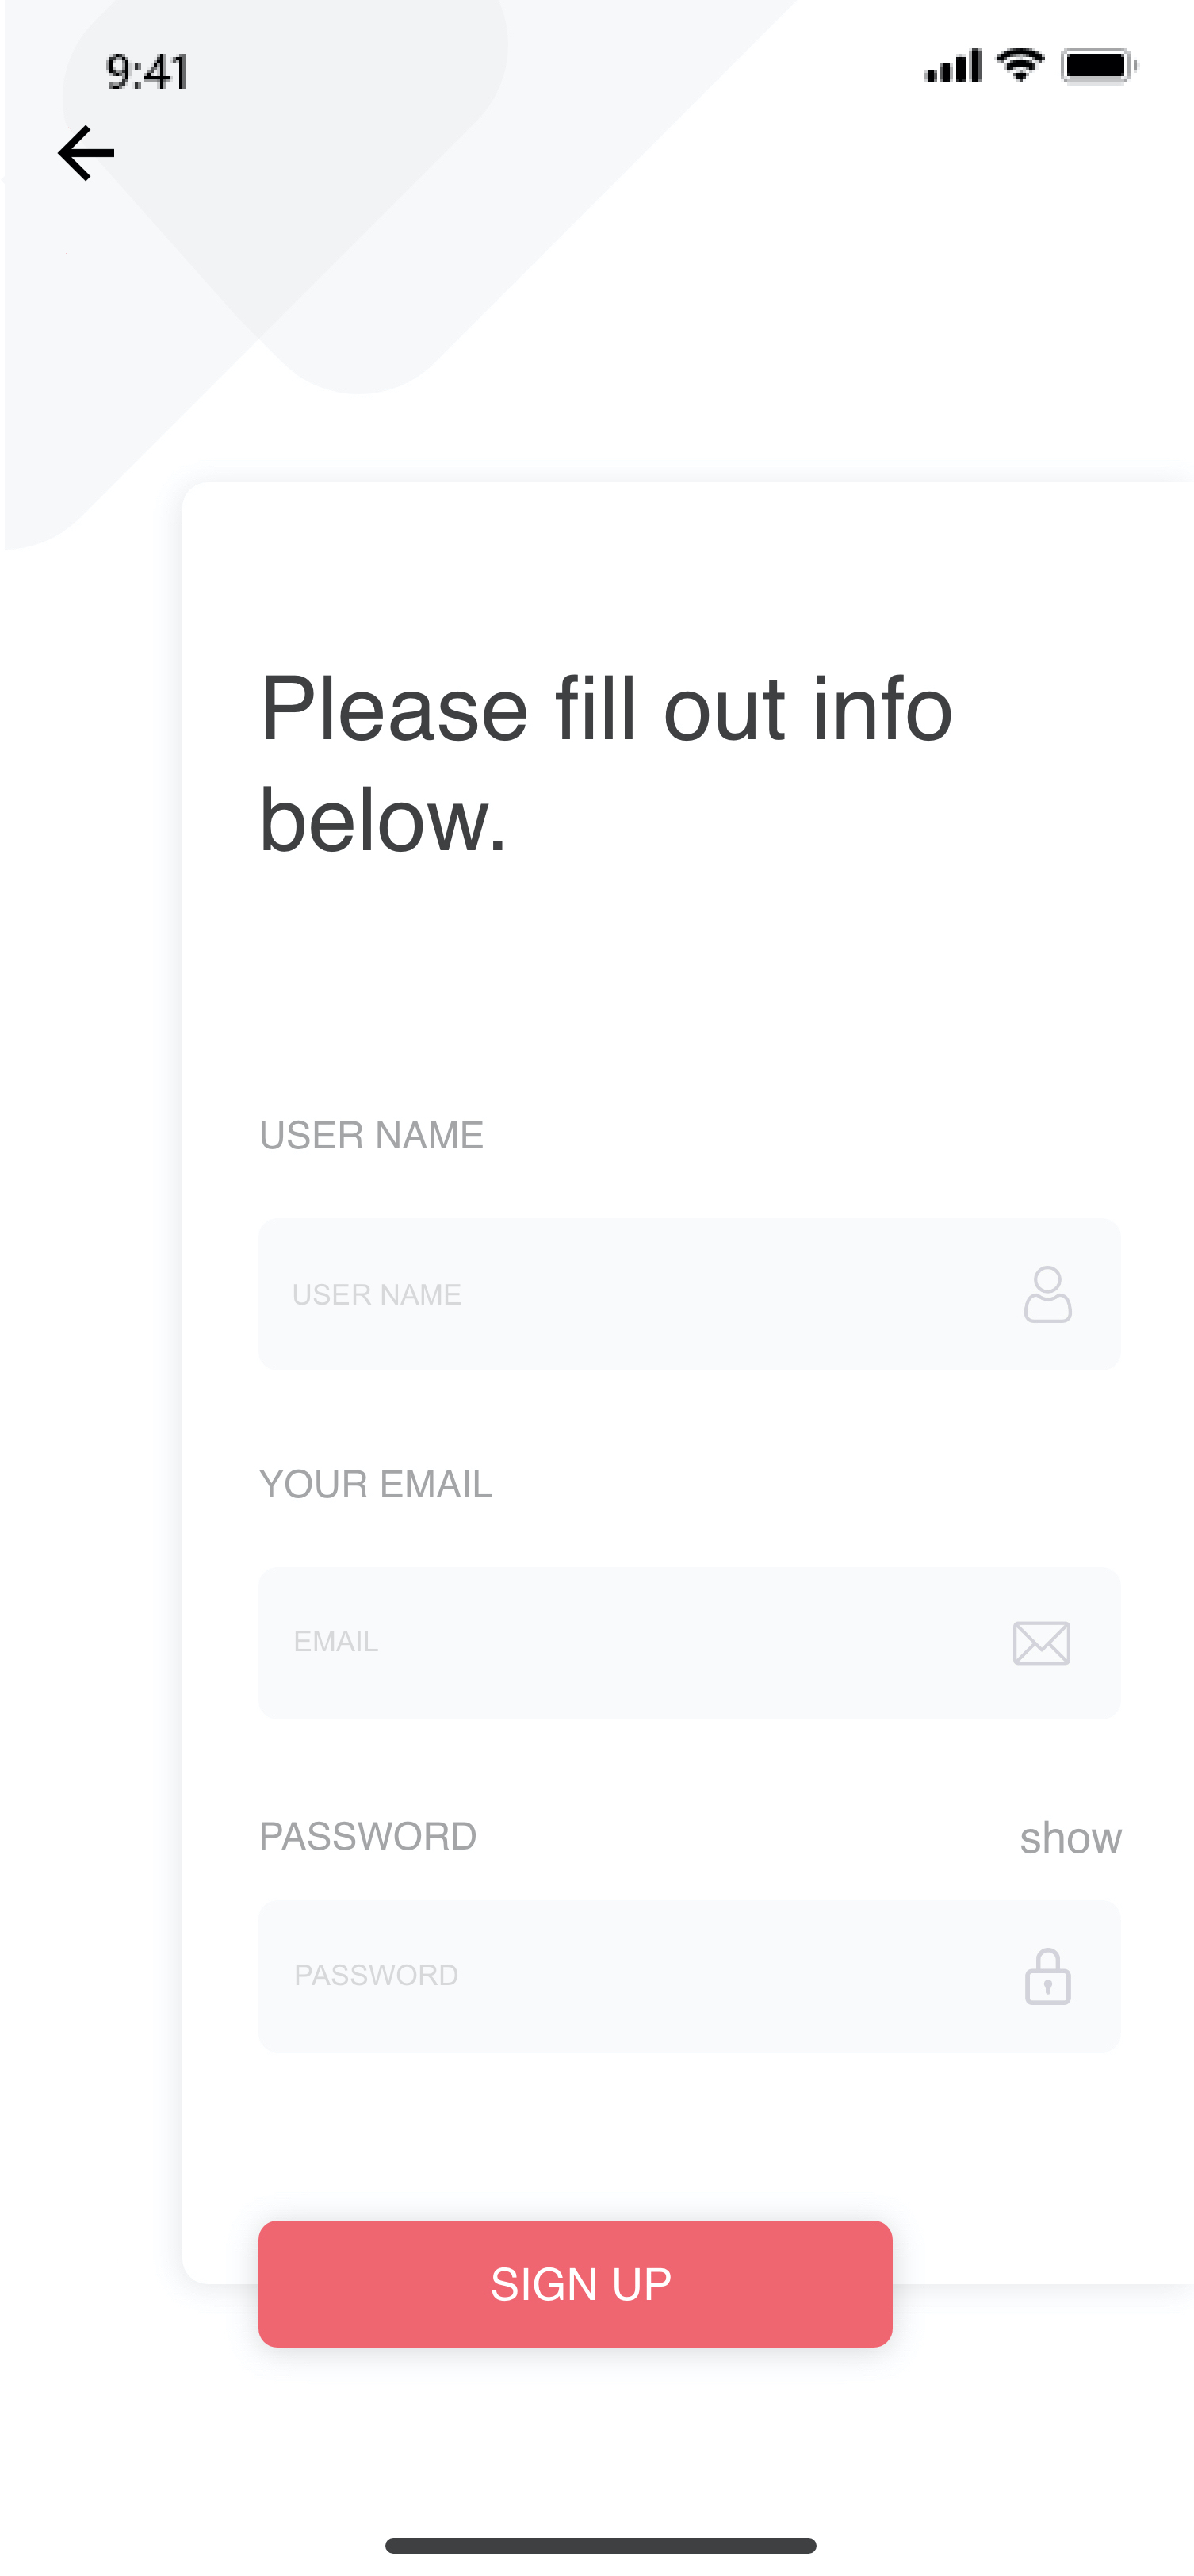EditText: (258, 1566, 1123, 1722), (258, 1217, 1123, 1372), (258, 1899, 1122, 2054)
Icon: (57, 125, 115, 182), (1023, 1265, 1072, 1324), (1025, 1947, 1072, 2006), (1012, 1620, 1071, 1666)
Text: (263, 674, 953, 853), (258, 1469, 494, 1500), (261, 1820, 478, 1851), (261, 1120, 484, 1150), (294, 1285, 462, 1308), (1020, 1819, 1125, 1855), (296, 1965, 460, 1986), (296, 1631, 379, 1653)
TextButton: (258, 2220, 893, 2348)
UpperTaskBar: (105, 46, 1143, 92)
